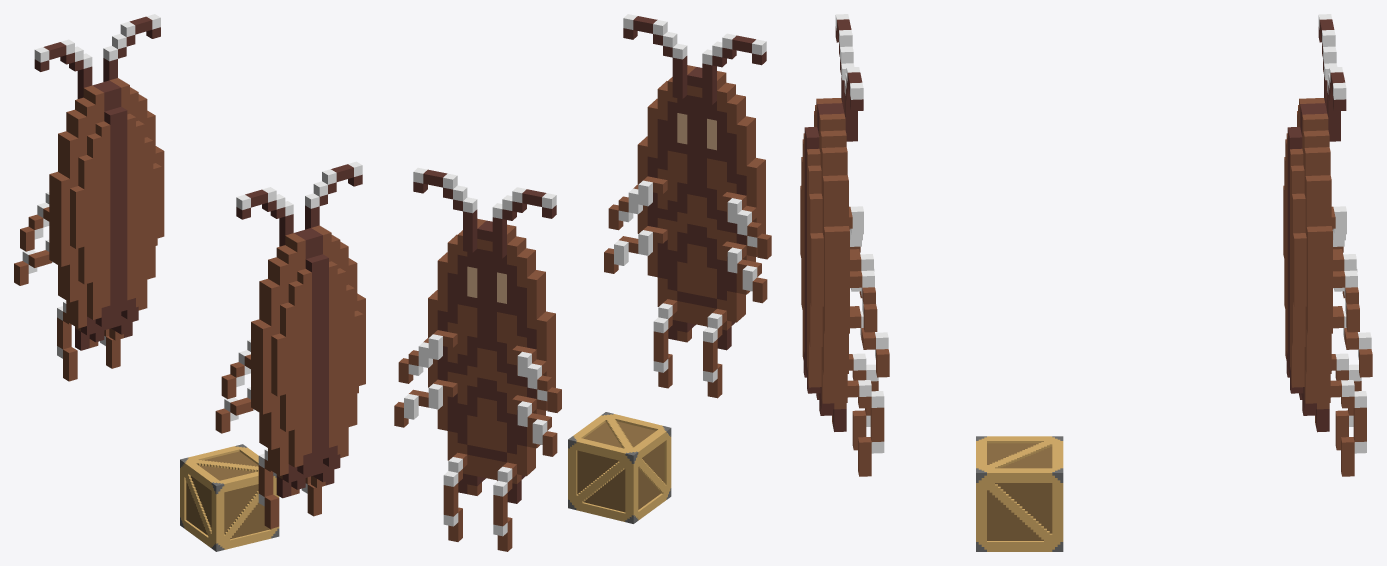
Rendered from crate__roach.gltf.
The picture shows the model from 3 angles, left to right: view 1: azimuth 30°, elevation 25°; view 2: azimuth 150°, elevation 25°; view 3: azimuth 270°, elevation 25°; orthographic projection. The views are drawn at different scales.
Parts seen in each view (by area): view 1: Layer.1, Layer.002, Layer.001; view 2: Layer.1, Layer.002, Layer.001; view 3: Layer.1, Layer.002, Layer.001.
Part boxes in pixels (left/top/right/bottom): Layer.1: left=215, top=161, right=365, bottom=528; Layer.002: left=14, top=14, right=164, bottom=381; Layer.001: left=180, top=444, right=279, bottom=551; Layer.1: left=604, top=14, right=771, bottom=398; Layer.002: left=394, top=167, right=561, bottom=551; Layer.001: left=568, top=412, right=671, bottom=523; Layer.1: left=800, top=14, right=889, bottom=476; Layer.002: left=1283, top=14, right=1372, bottom=476; Layer.001: left=976, top=436, right=1063, bottom=551.
Bounding box in the file's own units: 7.69 × 20.2 × 21.75.
3 materials, 3 textured.
